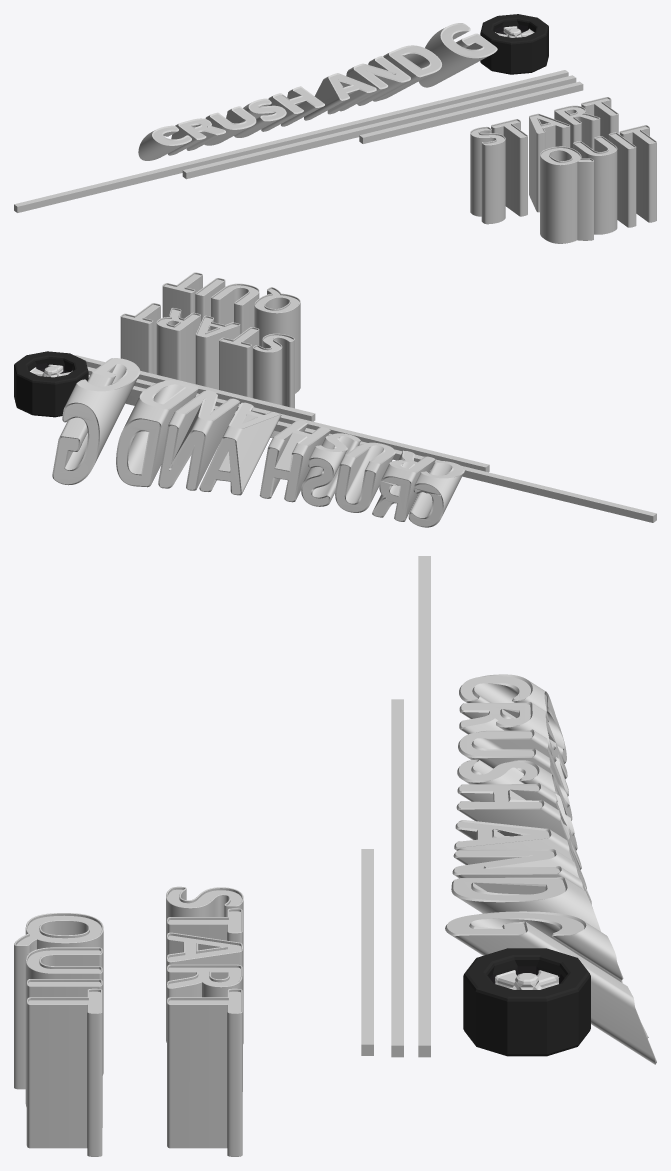
Rendered from Start_Screen.fbx.
The picture shows the model from 3 angles, top to bottom: view 1: azimuth 30°, elevation 25°; view 2: azimuth 150°, elevation 25°; view 3: azimuth 270°, elevation 25°; orthographic projection. The views are drawn at different scales.
Parts seen in each view (by area): view 1: Quit, Text.002, Start, Cube, Text.001, Cube.001, Car_sport.002, Cube.002, Start.002, Quit.001; view 2: Text.002, Text.001, Start, Quit, Car_sport.002, Cube, Cube.001, Cube.002, Start.002, Quit.001; view 3: Text.002, Quit, Start, Car_sport.002, Text.001, Cube, Cube.001, Start.002, Cube.002, Quit.001.
Part boxes in pixels (x1,y1,x2,y2): Quit: (540,125,656,243); Text.002: (138,23,497,160); Start: (470,97,618,224); Cube: (14,70,568,212); Text.001: (153,24,495,144); Cube.001: (182,75,576,179); Car_sport.002: (480,14,548,74); Cube.002: (359,81,583,143); Start.002: (471,98,616,144); Quit.001: (541,126,654,164); Text.002: (52,358,464,527); Text.001: (53,358,463,526); Start: (120,303,294,437); Quit: (162,272,300,393); Car_sport.002: (14,351,88,417); Cube: (88,375,656,522); Cube.001: (87,366,489,472); Cube.002: (75,355,315,421); Start.002: (122,304,293,351); Quit.001: (164,274,299,312); Text.002: (445,674,656,1064); Quit: (14,913,103,1156); Start: (166,886,243,1156); Car_sport.002: (463,948,590,1056); Text.001: (447,676,592,934); Cube: (418,556,430,1057); Cube.001: (391,699,403,1057); Start.002: (167,889,241,1012); Cube.002: (361,849,373,1055); Quit.001: (16,915,101,1012).
Size of the model in its own units: 737 by 124 by 405.
